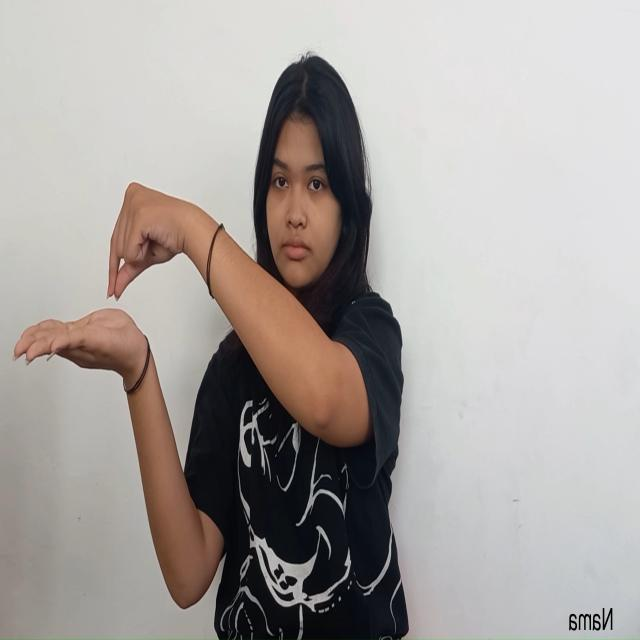Nama -BISINDO-: (12, 182, 194, 388)
